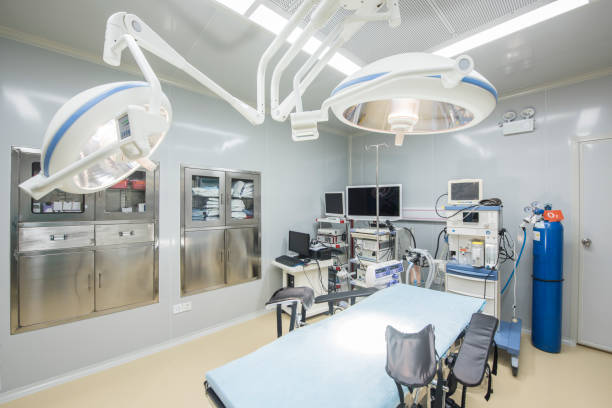bedside_monitor: (344, 184, 402, 220), (446, 179, 482, 205), (324, 191, 345, 216)
breathing_tube: (405, 258, 437, 288)
cabinet: (16, 152, 163, 327), (184, 165, 262, 291)
computer: (288, 230, 310, 256)
door_handle: (582, 236, 593, 252)
handle: (83, 270, 94, 294), (97, 270, 107, 293), (227, 248, 232, 263), (220, 251, 225, 266)
iv_pole: (363, 142, 391, 262)
keyboard: (275, 254, 301, 268)
mouse: (301, 256, 312, 263)
operating_bed: (204, 283, 488, 408)
surgical_light: (43, 82, 174, 200), (332, 56, 498, 145)
ventilator: (446, 205, 506, 326)
